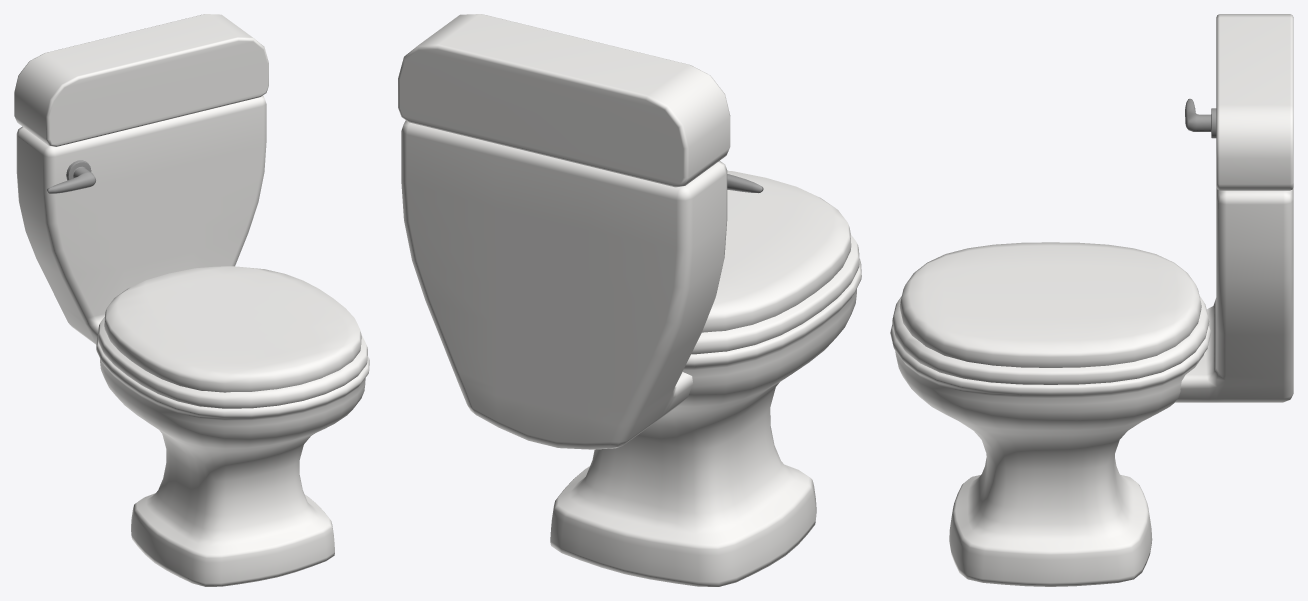
File: Toilet_2.glb
3 views of the same model, side by side, from view 1: azimuth 30°, elevation 25°; view 2: azimuth 150°, elevation 25°; view 3: azimuth 270°, elevation 25° (orthographic). The views are drawn at different scales.
Parts seen in each view (by area): view 1: Toilet_2; view 2: Toilet_2; view 3: Toilet_2.
Boxes of the visible parts, box(x1,y1,x2,y2) form: Toilet_2: box(14, 14, 369, 586); Toilet_2: box(398, 14, 861, 586); Toilet_2: box(890, 14, 1293, 586).
Bounding box in the file's own units: 0.6806 × 1.2 × 0.9087.
1 material, 1 textured.
